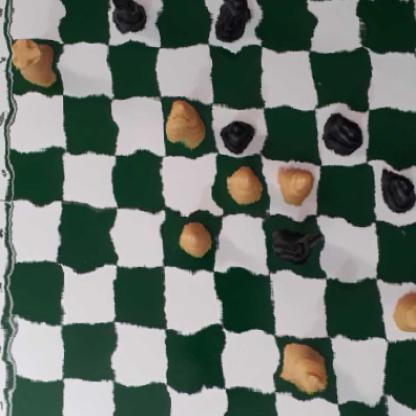black-king: (207, 0, 255, 44)
black-knight: (273, 218, 318, 268)
black-pawn: (377, 161, 416, 214), (322, 111, 366, 157), (218, 118, 256, 150)
black-rook: (107, 0, 152, 35)
white-bishop: (163, 96, 210, 151)
white-king: (275, 336, 332, 397)
white-pawn: (225, 161, 263, 209), (273, 161, 314, 204), (174, 217, 212, 261), (387, 288, 416, 337)
white-rook: (9, 40, 59, 88)
